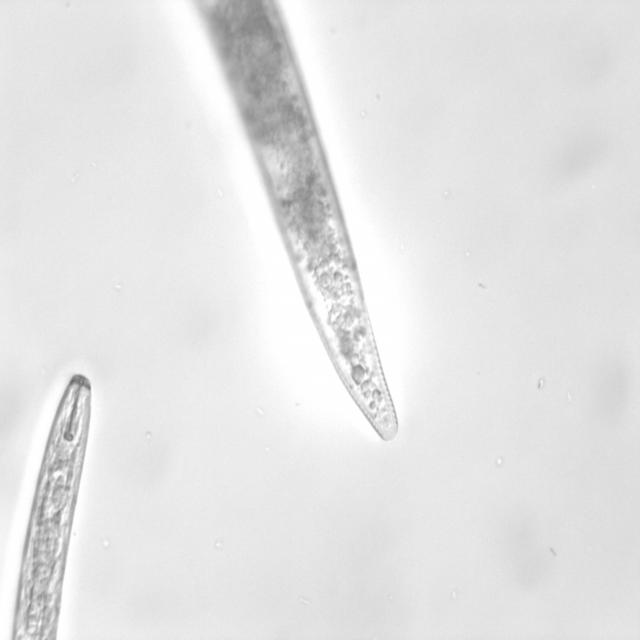Pratylenchus: (279, 223, 410, 449)
